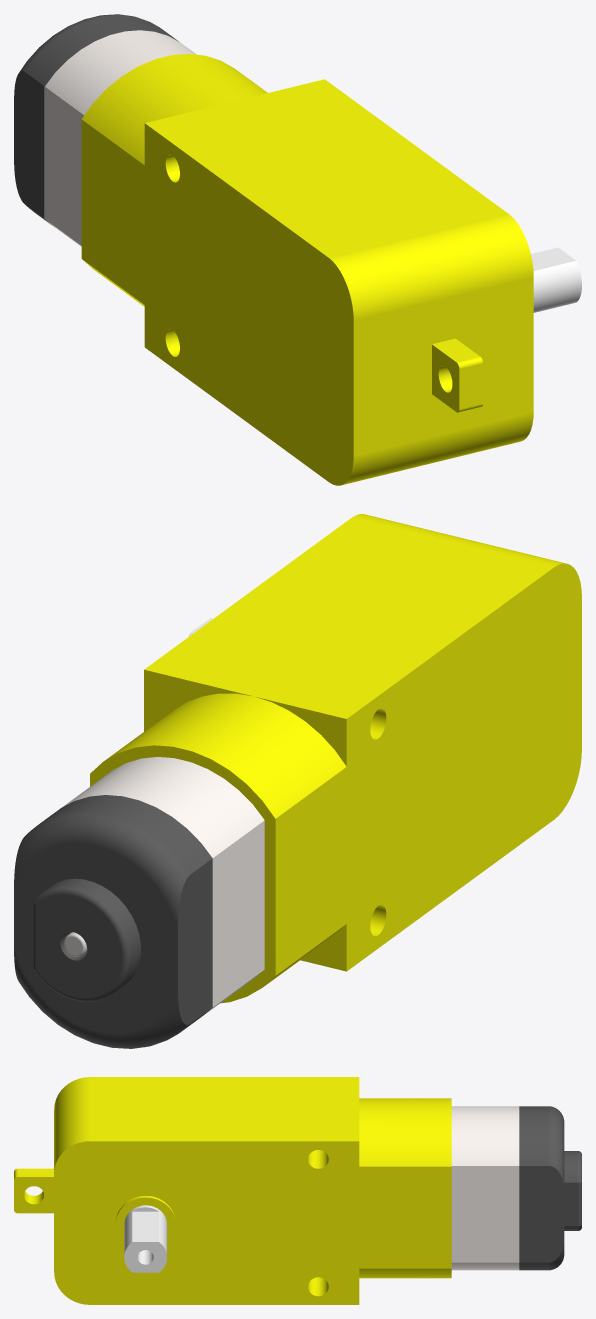
The model's file is tt-motor.glb.
3 renders of one model, top to bottom at view 1: azimuth 30°, elevation 25°; view 2: azimuth 150°, elevation 25°; view 3: azimuth 270°, elevation 25°, orthographic. The views are drawn at different scales.
Visible parts, largest first — view 1: Gear Motor-1; view 2: Gear Motor-1; view 3: Gear Motor-1.
Part boxes in pixels (x1,y1,x2,y2): Gear Motor-1: [14, 14, 581, 485]; Gear Motor-1: [14, 514, 581, 1048]; Gear Motor-1: [14, 1077, 581, 1304].
Size of the model in its own units: 0.029 by 0.0225 by 0.0707.
